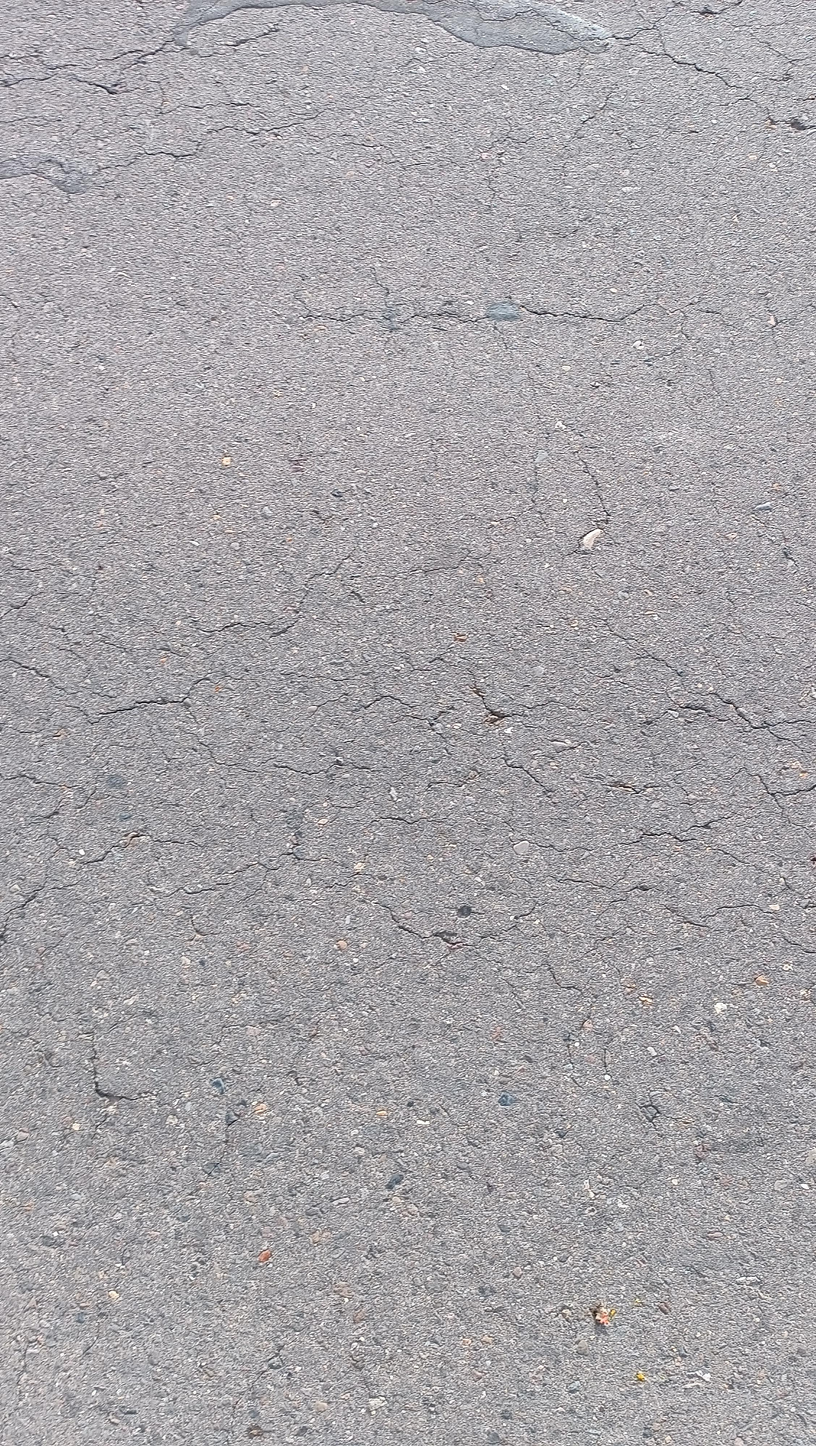GRIETA: (302, 312, 497, 326), (520, 304, 646, 323)
PIEL DE COCODRILO: (0, 556, 816, 1098), (0, 17, 351, 229), (574, 0, 816, 140)
